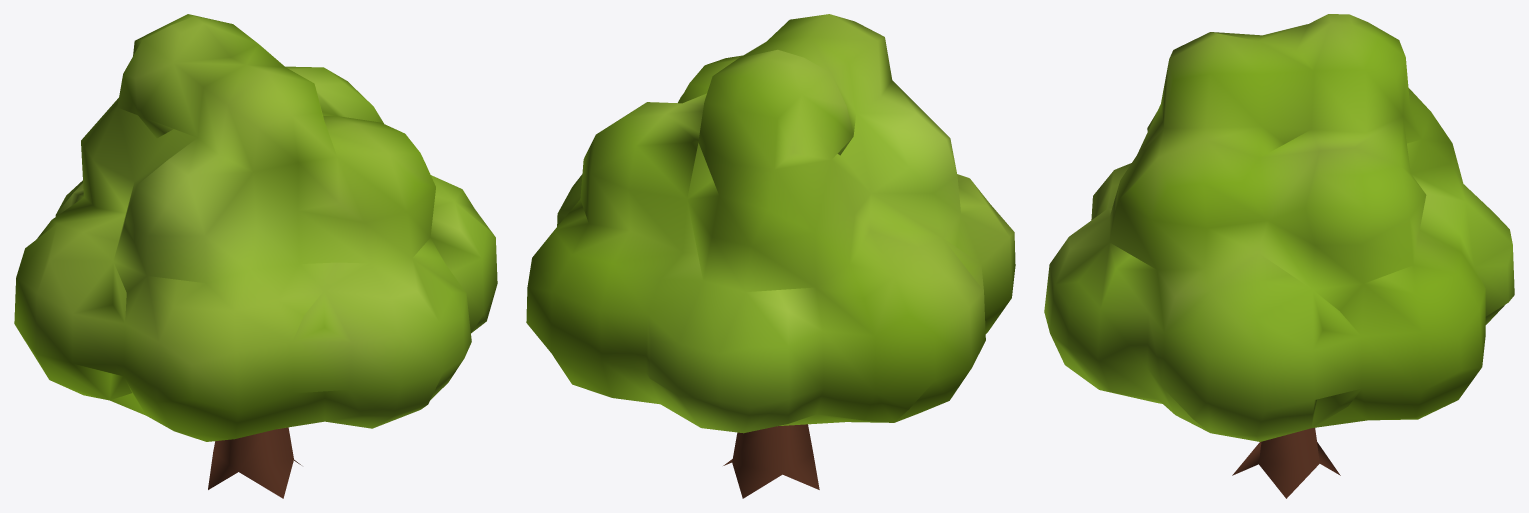
The model's file is pine-tree-116-lod2.obj.
3 renders of one model, left to right at view 1: azimuth 30°, elevation 25°; view 2: azimuth 150°, elevation 25°; view 3: azimuth 270°, elevation 25°, orthographic. The views are drawn at different scales.
Visible parts, largest first — view 1: simplified; view 2: simplified; view 3: simplified.
Boxes of the visible parts, <box> form: simplified: <box>14,14,497,498</box>; simplified: <box>526,14,1015,498</box>; simplified: <box>1044,14,1514,498</box>.
Bounding box in the file's own units: 223 × 227 × 221.
